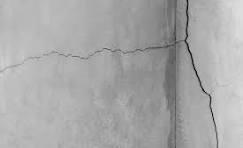Crack: (0, 36, 184, 75), (183, 0, 223, 148)
